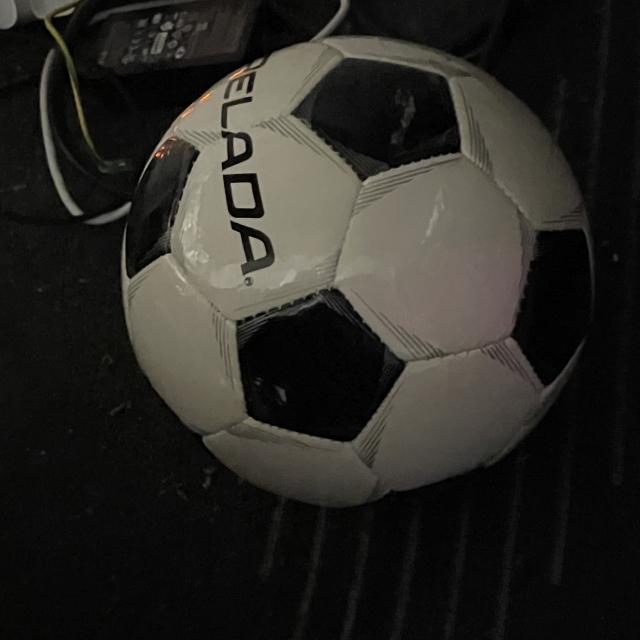ball: (119, 37, 601, 509)
